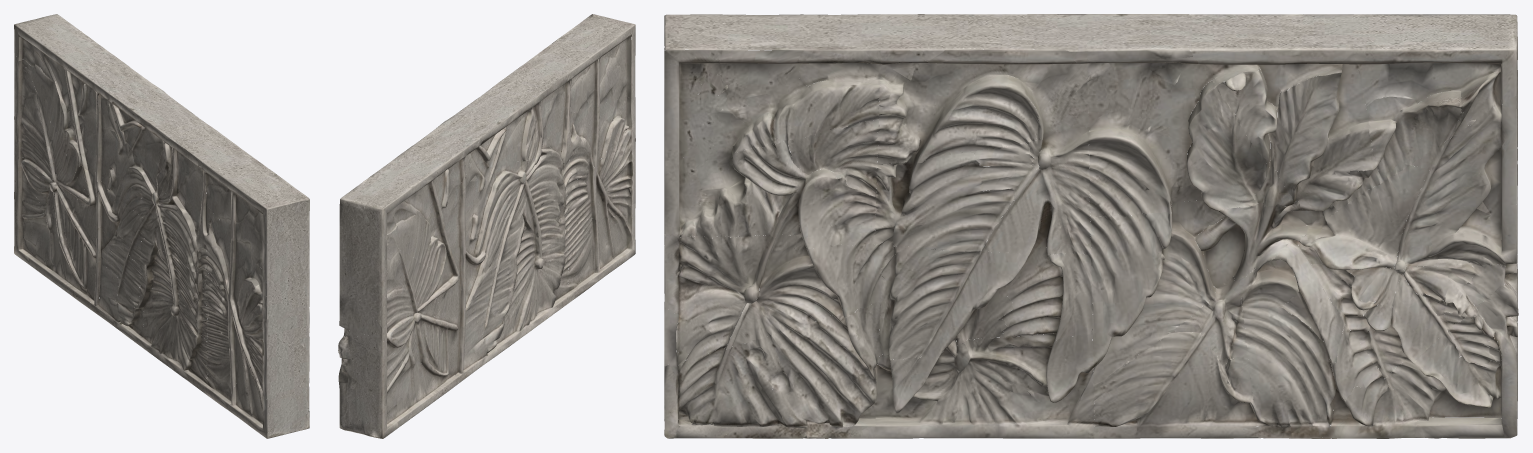
Rendered from relief-4.glb.
3 renders of one model, left to right at view 1: azimuth 30°, elevation 25°; view 2: azimuth 150°, elevation 25°; view 3: azimuth 270°, elevation 25°, orthographic. The views are drawn at different scales.
Parts seen in each view (by area): view 1: tripo_node_7284768b-c12b-4446-ae31-e85c618f4372; view 2: tripo_node_7284768b-c12b-4446-ae31-e85c618f4372; view 3: tripo_node_7284768b-c12b-4446-ae31-e85c618f4372.
Boxes of the visible parts, bbox=[...] form: tripo_node_7284768b-c12b-4446-ae31-e85c618f4372: bbox=[14, 14, 309, 438]; tripo_node_7284768b-c12b-4446-ae31-e85c618f4372: bbox=[338, 14, 635, 438]; tripo_node_7284768b-c12b-4446-ae31-e85c618f4372: bbox=[664, 14, 1518, 438].
Bounding box in the file's own units: 0.1247 × 0.5031 × 0.9985.
Materials: 1 (1 with a texture image).
